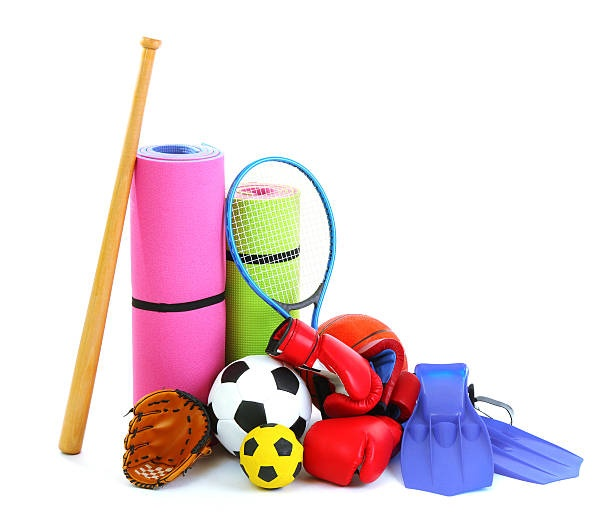bita: (50, 34, 159, 455)
